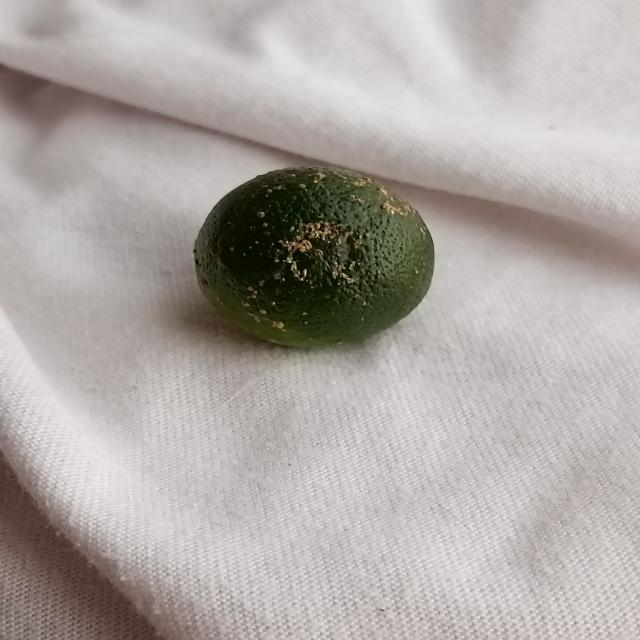scab: (187, 162, 445, 353)
